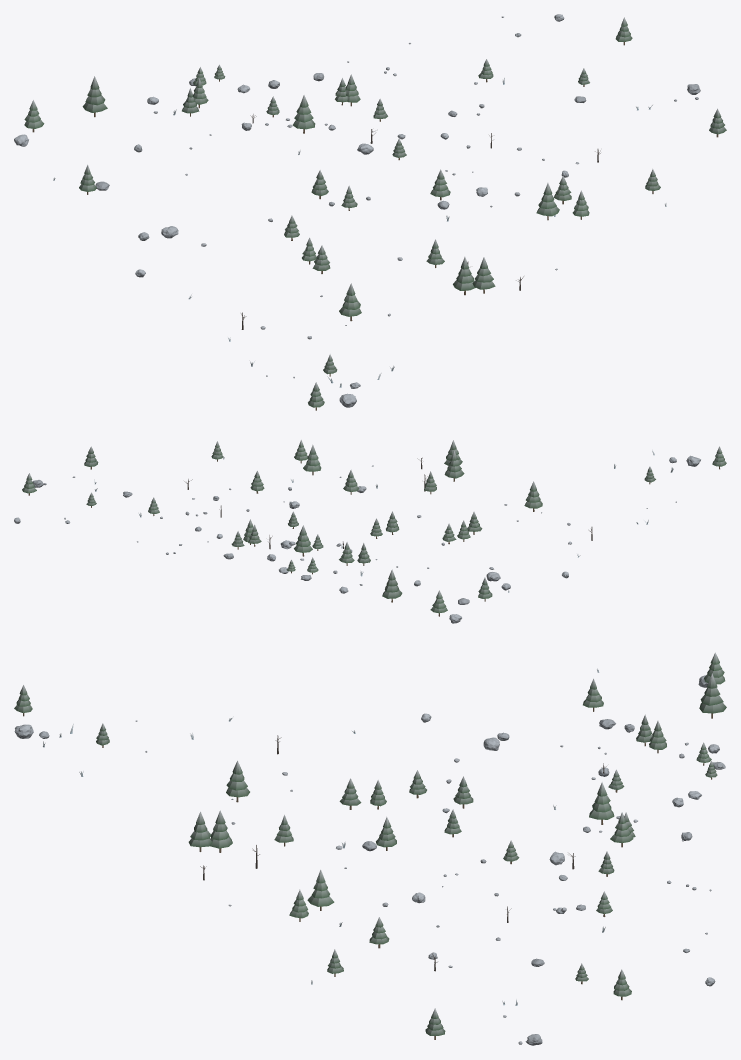
Rendered from frost_land_scatter_c15_11.glb.
The picture shows the model from 3 angles, top to bottom: view 1: azimuth 30°, elevation 25°; view 2: azimuth 150°, elevation 25°; view 3: azimuth 270°, elevation 25°; orthographic projection. The views are drawn at different scales.
Visible parts, largest first — view 1: frost_land_scatter_c15_11; view 2: frost_land_scatter_c15_11; view 3: frost_land_scatter_c15_11.
Part boxes in pixels (bbox=[...]): frost_land_scatter_c15_11: bbox=[14, 14, 726, 410]; frost_land_scatter_c15_11: bbox=[14, 440, 726, 623]; frost_land_scatter_c15_11: bbox=[14, 652, 726, 1045].
Size of the model in its own units: 259 by 41.84 by 234.
